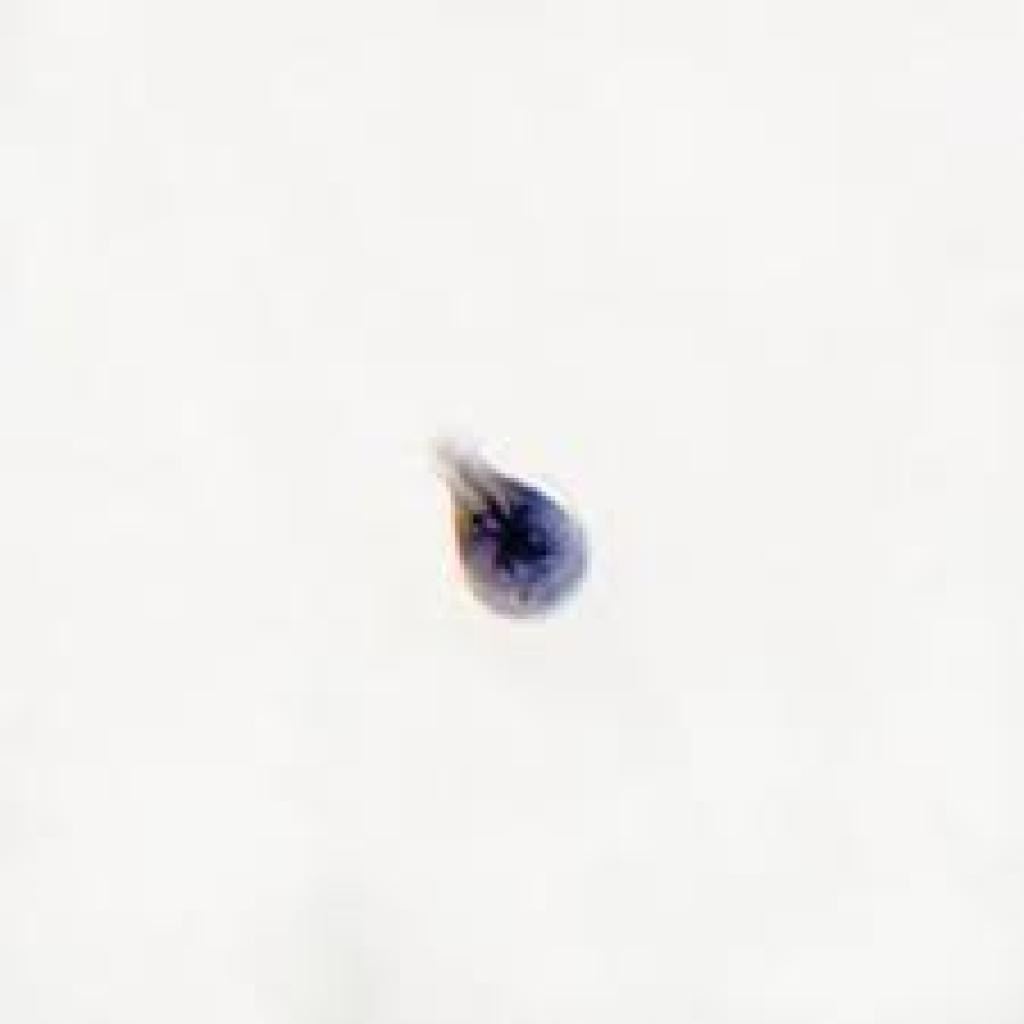Giardia: (428, 419, 601, 628)
